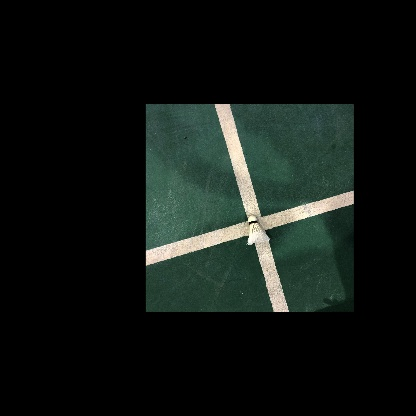ball_single: (248, 215, 269, 245)
